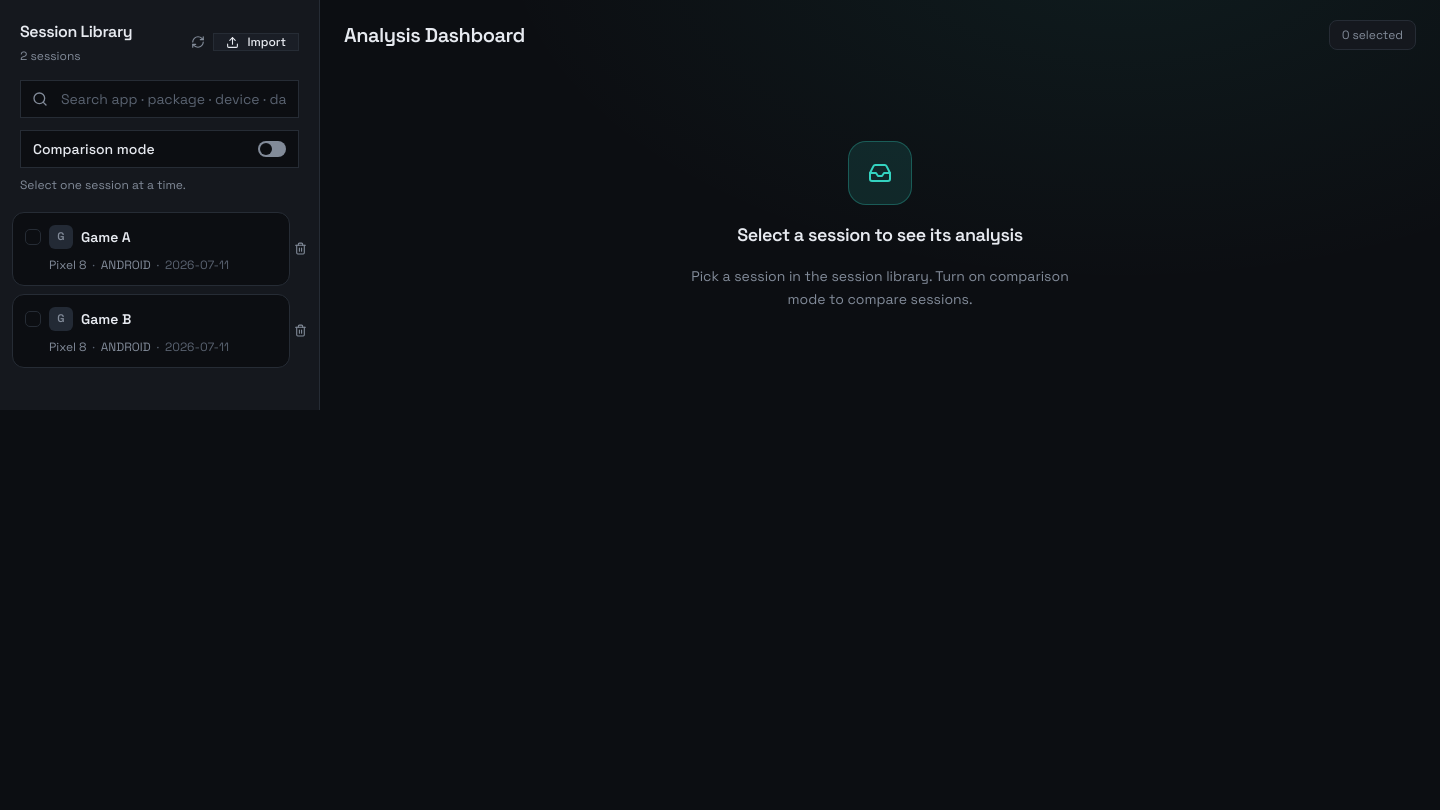
AnalysisDashboard › selects one session by default and preserves the first comparison when the mode is turned off
The image size is (1440, 810).
Click the text "Game A" at (106, 236), box [81,228,131,246]
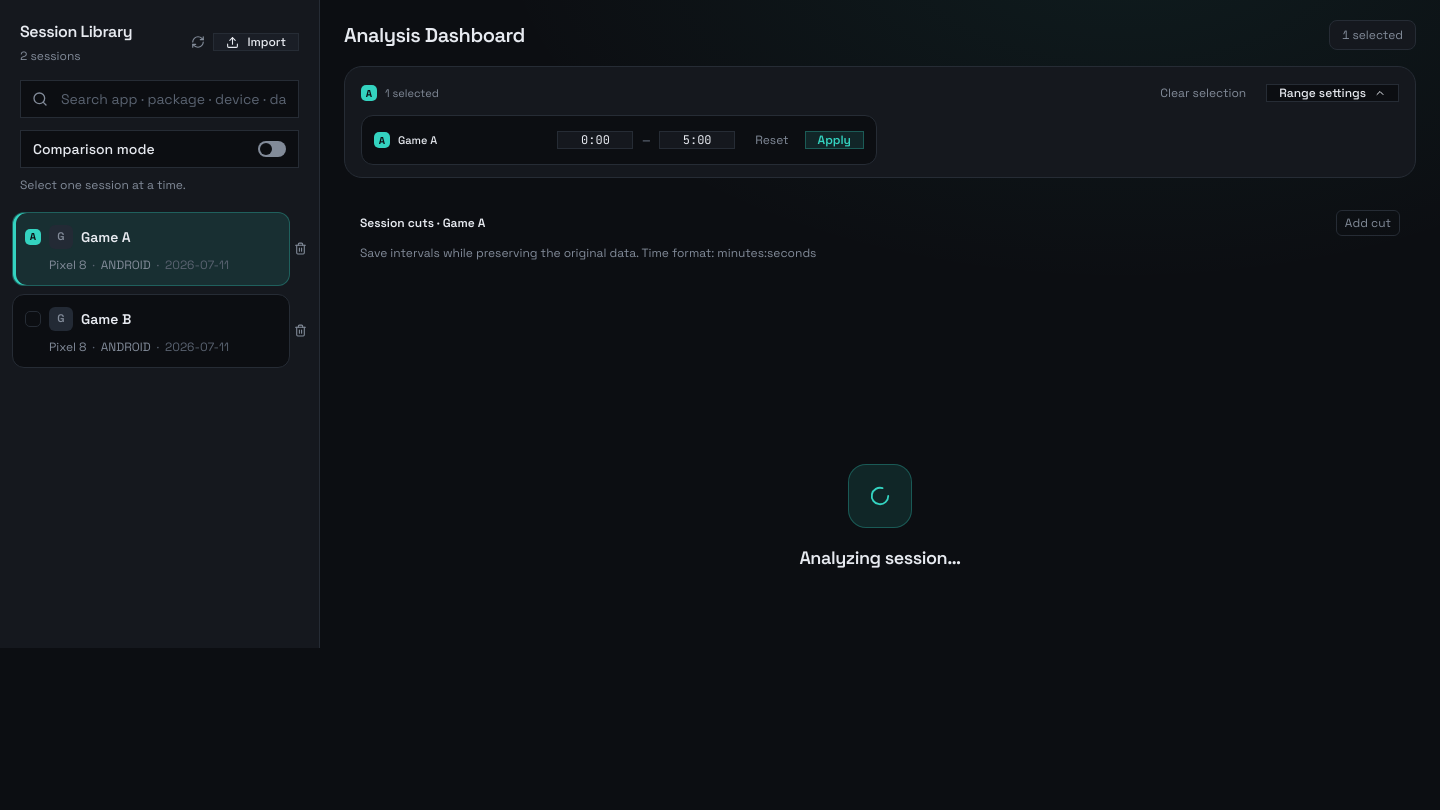
Click the text "Game B" at (106, 318), box [81,310,131,328]
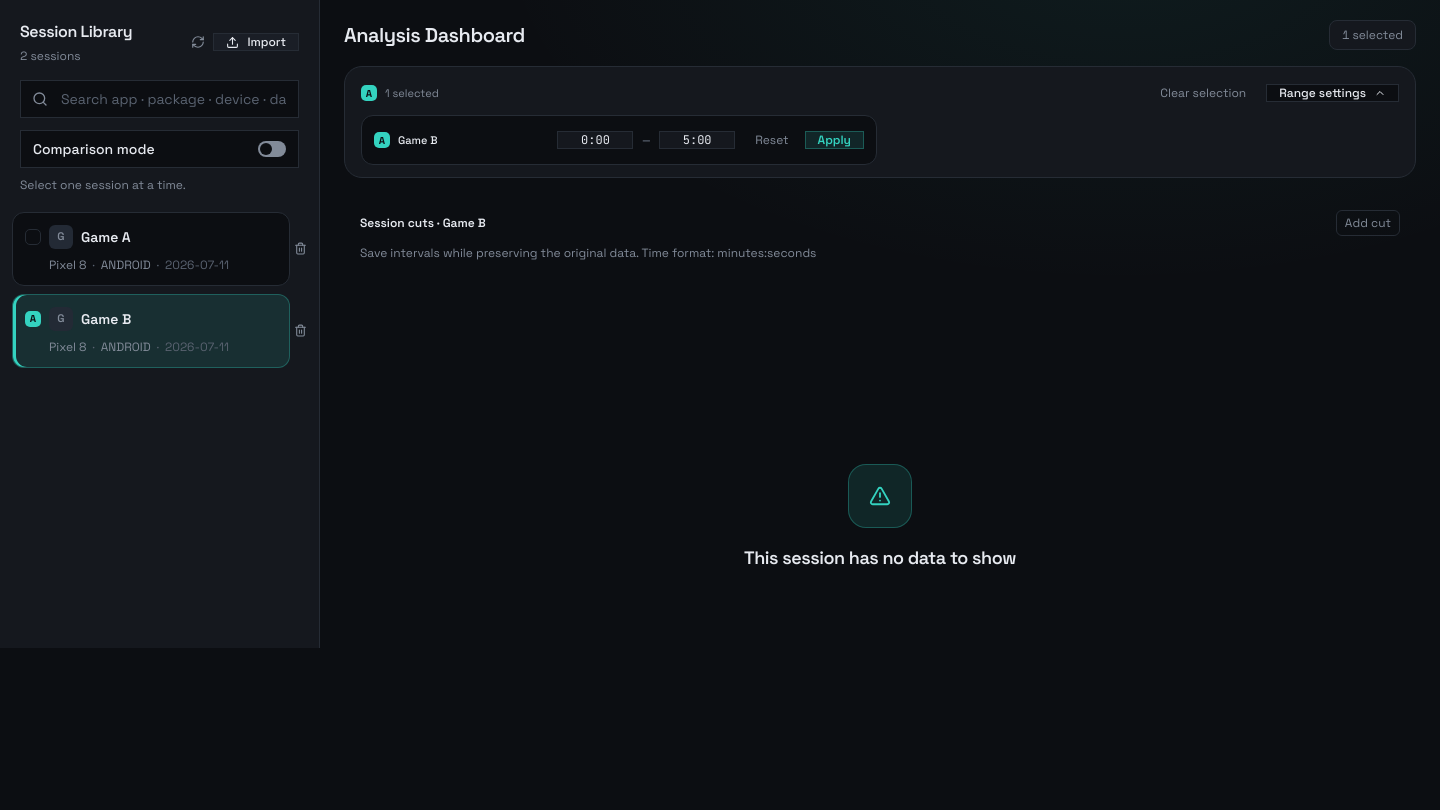
Click the switch labelled "Comparison mode" at (94, 149), box [20,130,299,168]
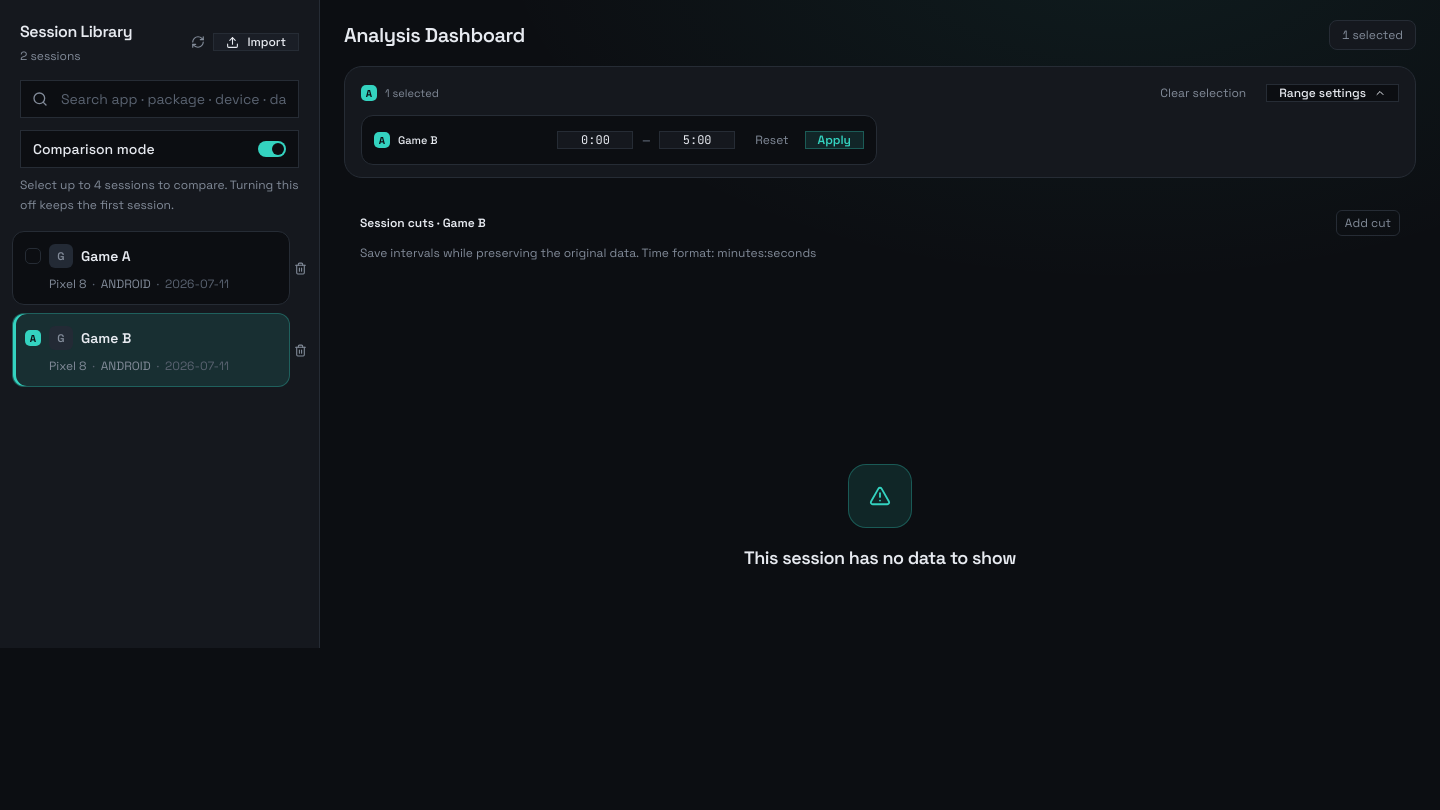
Click the text "Game A" at (106, 256), box [81,247,131,265]
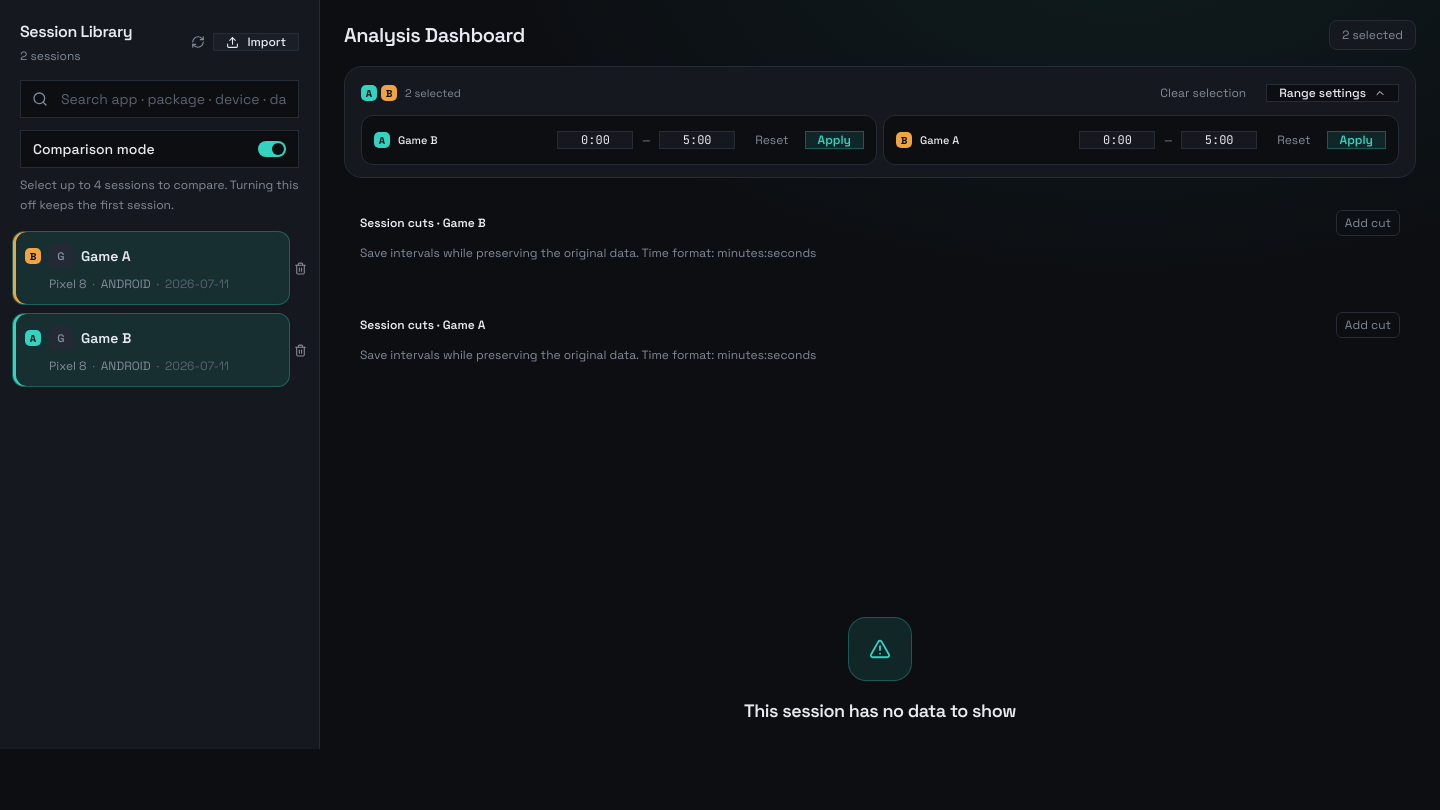
Click the switch labelled "Comparison mode" at (94, 149), box [20,130,299,168]
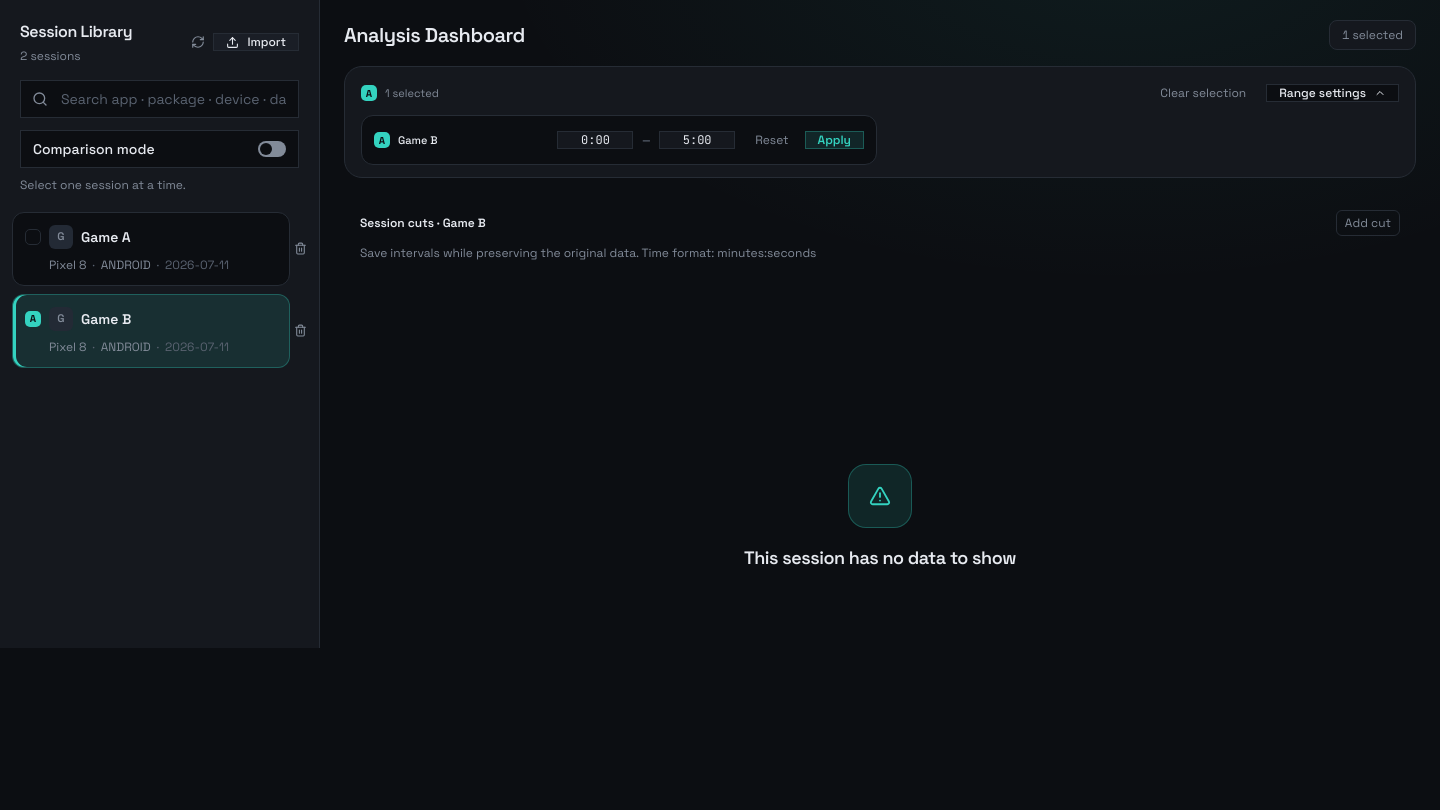
Expected: the switch labelled "Comparison mode" is not checked, [20,130,299,168]
Click the text "Game B" below "Select one session at a time." at (106, 318), box [81,310,131,328]
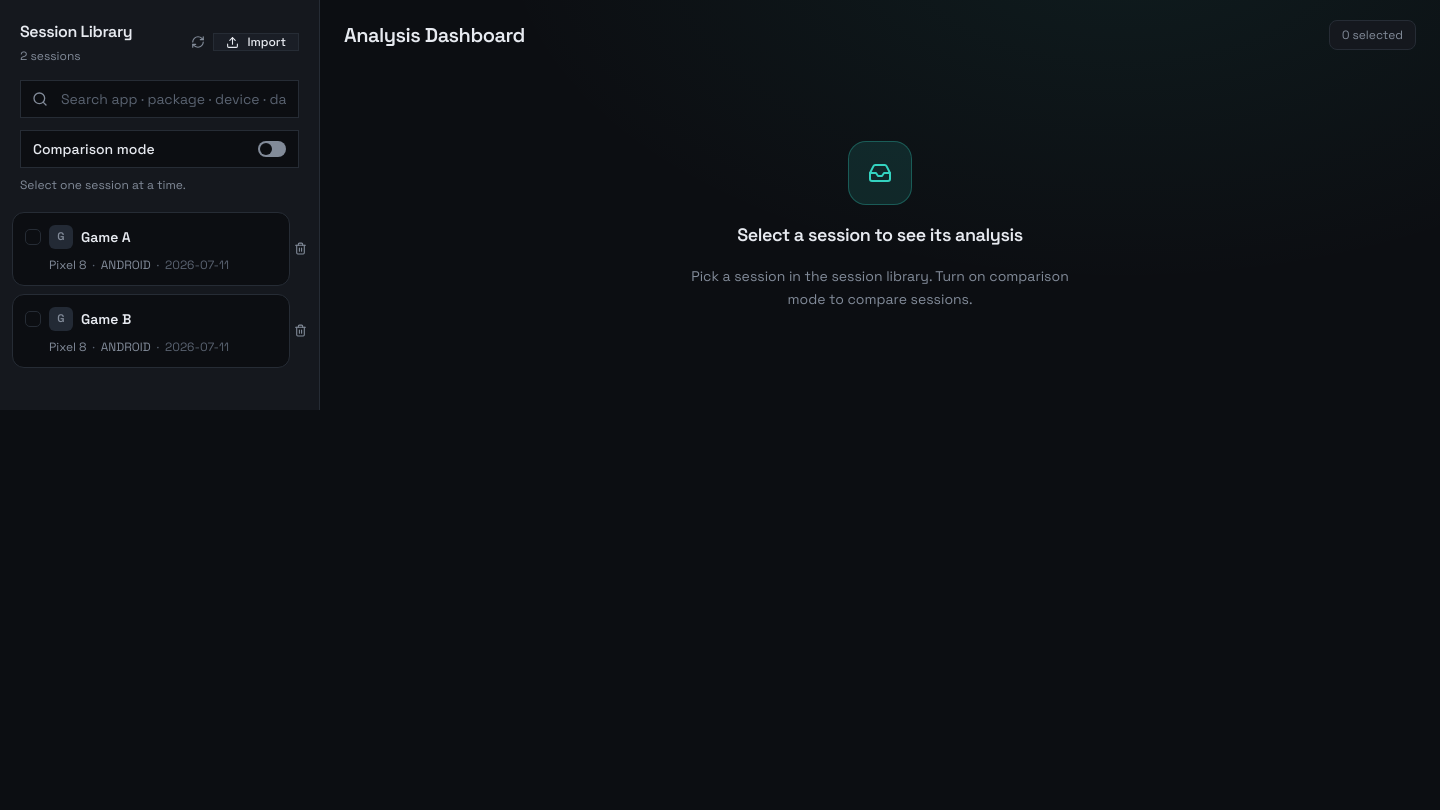
Expected: the heading "Select a session to see its analysis" is shown, [737,221,1023,249]
